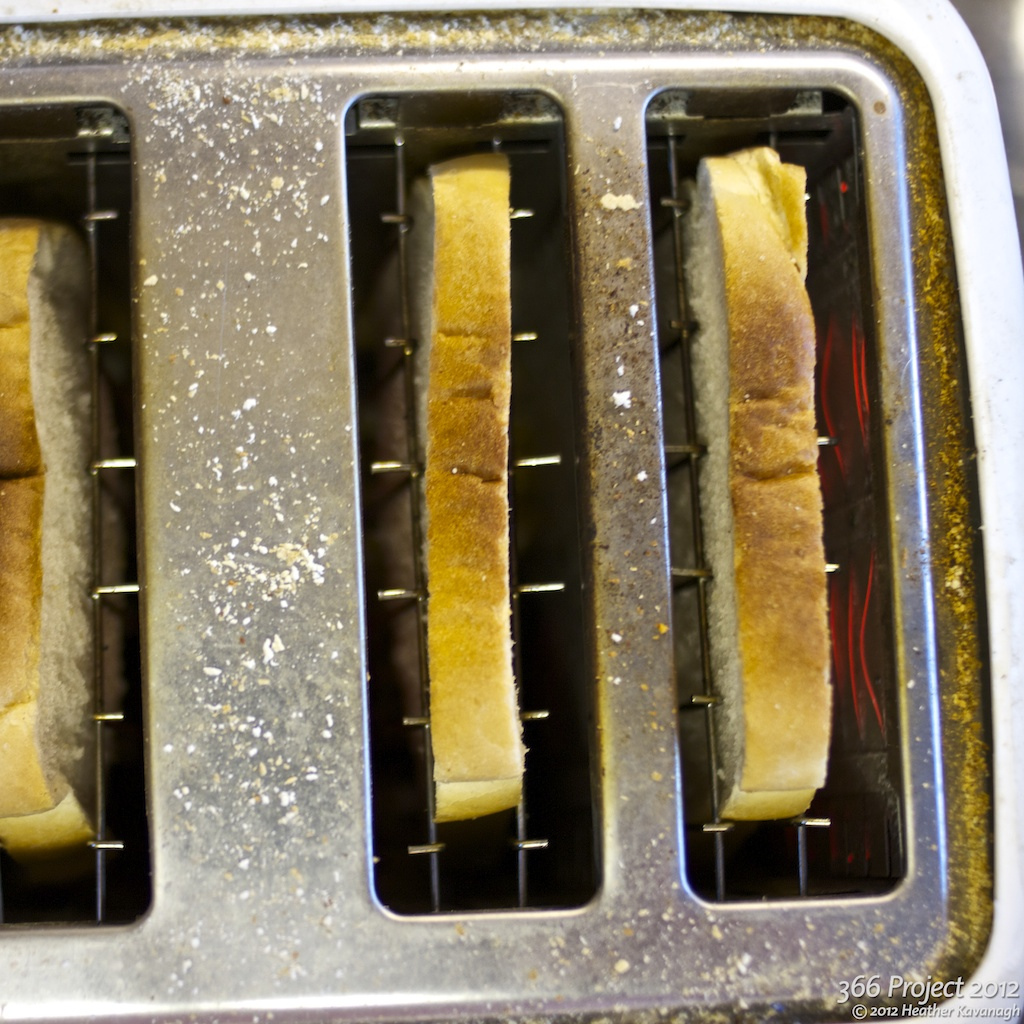slice of bread: (389, 161, 558, 830), (677, 144, 831, 836), (1, 197, 98, 864)
